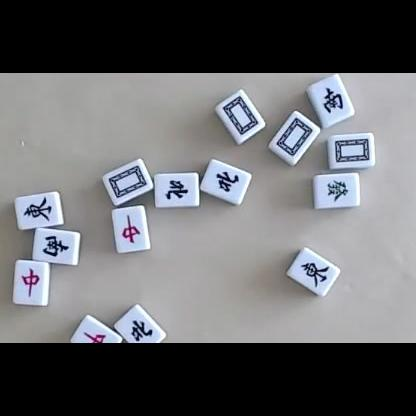1z: (302, 262, 330, 288), (22, 197, 52, 221)
2z: (43, 235, 69, 258), (323, 86, 343, 113)
4z: (216, 171, 239, 192), (131, 320, 152, 343), (166, 179, 188, 200)
5z: (276, 117, 313, 157), (223, 96, 258, 136), (108, 166, 147, 199), (334, 139, 369, 163)
6z: (326, 180, 348, 202)
7z: (21, 268, 40, 297), (123, 214, 140, 245), (83, 330, 109, 343)
